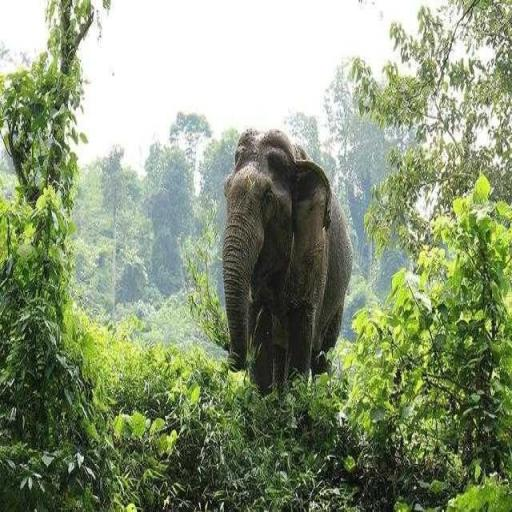Elephant: (221, 126, 353, 397)
